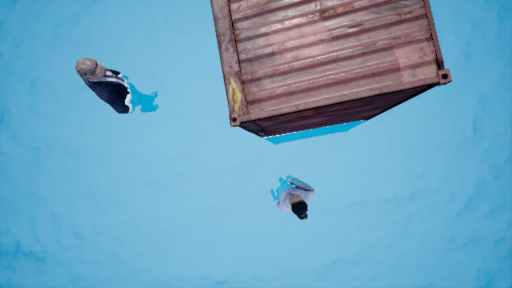person: (73, 56, 170, 124), (274, 174, 319, 220)
